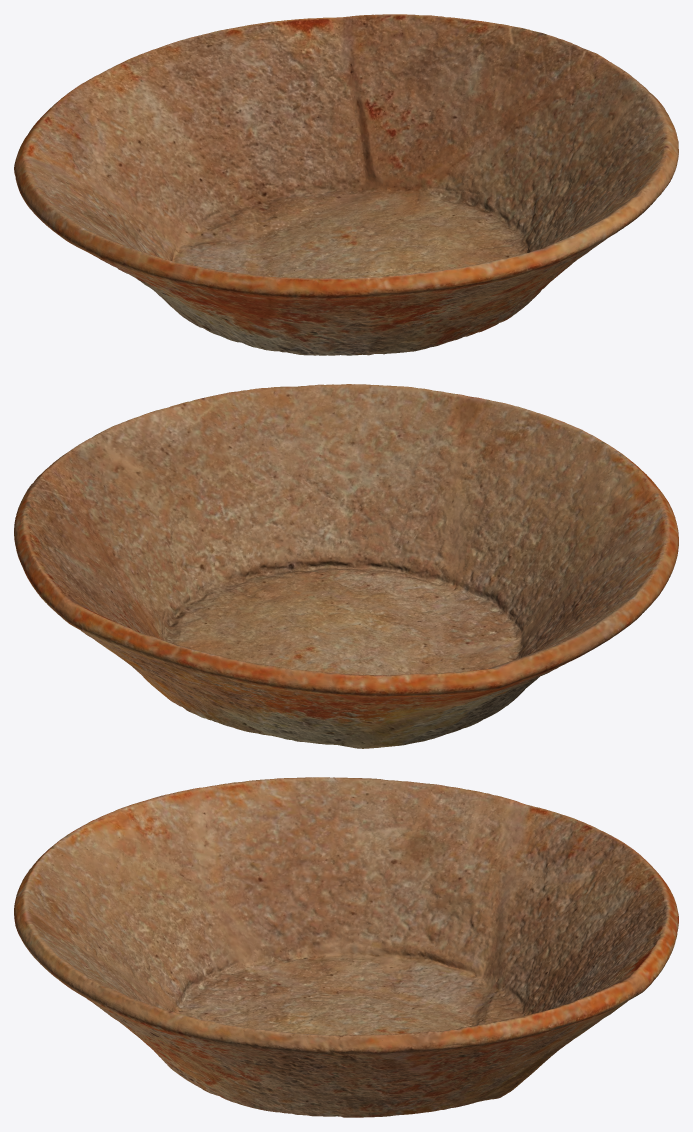
3 views of the same model, one above another, from view 1: azimuth 30°, elevation 25°; view 2: azimuth 150°, elevation 25°; view 3: azimuth 270°, elevation 25° (orthographic).
Visible parts, largest first — view 1: Mesh_0.009; view 2: Mesh_0.009; view 3: Mesh_0.009.
Boxes of the visible parts, x1=… form: Mesh_0.009: x1=14, y1=14, x2=678, y2=355; Mesh_0.009: x1=14, y1=384, x2=678, y2=748; Mesh_0.009: x1=14, y1=777, x2=678, y2=1117.
Size of the model in its own units: 0.221 by 0.0564 by 0.2194.
1 material, 1 textured.
